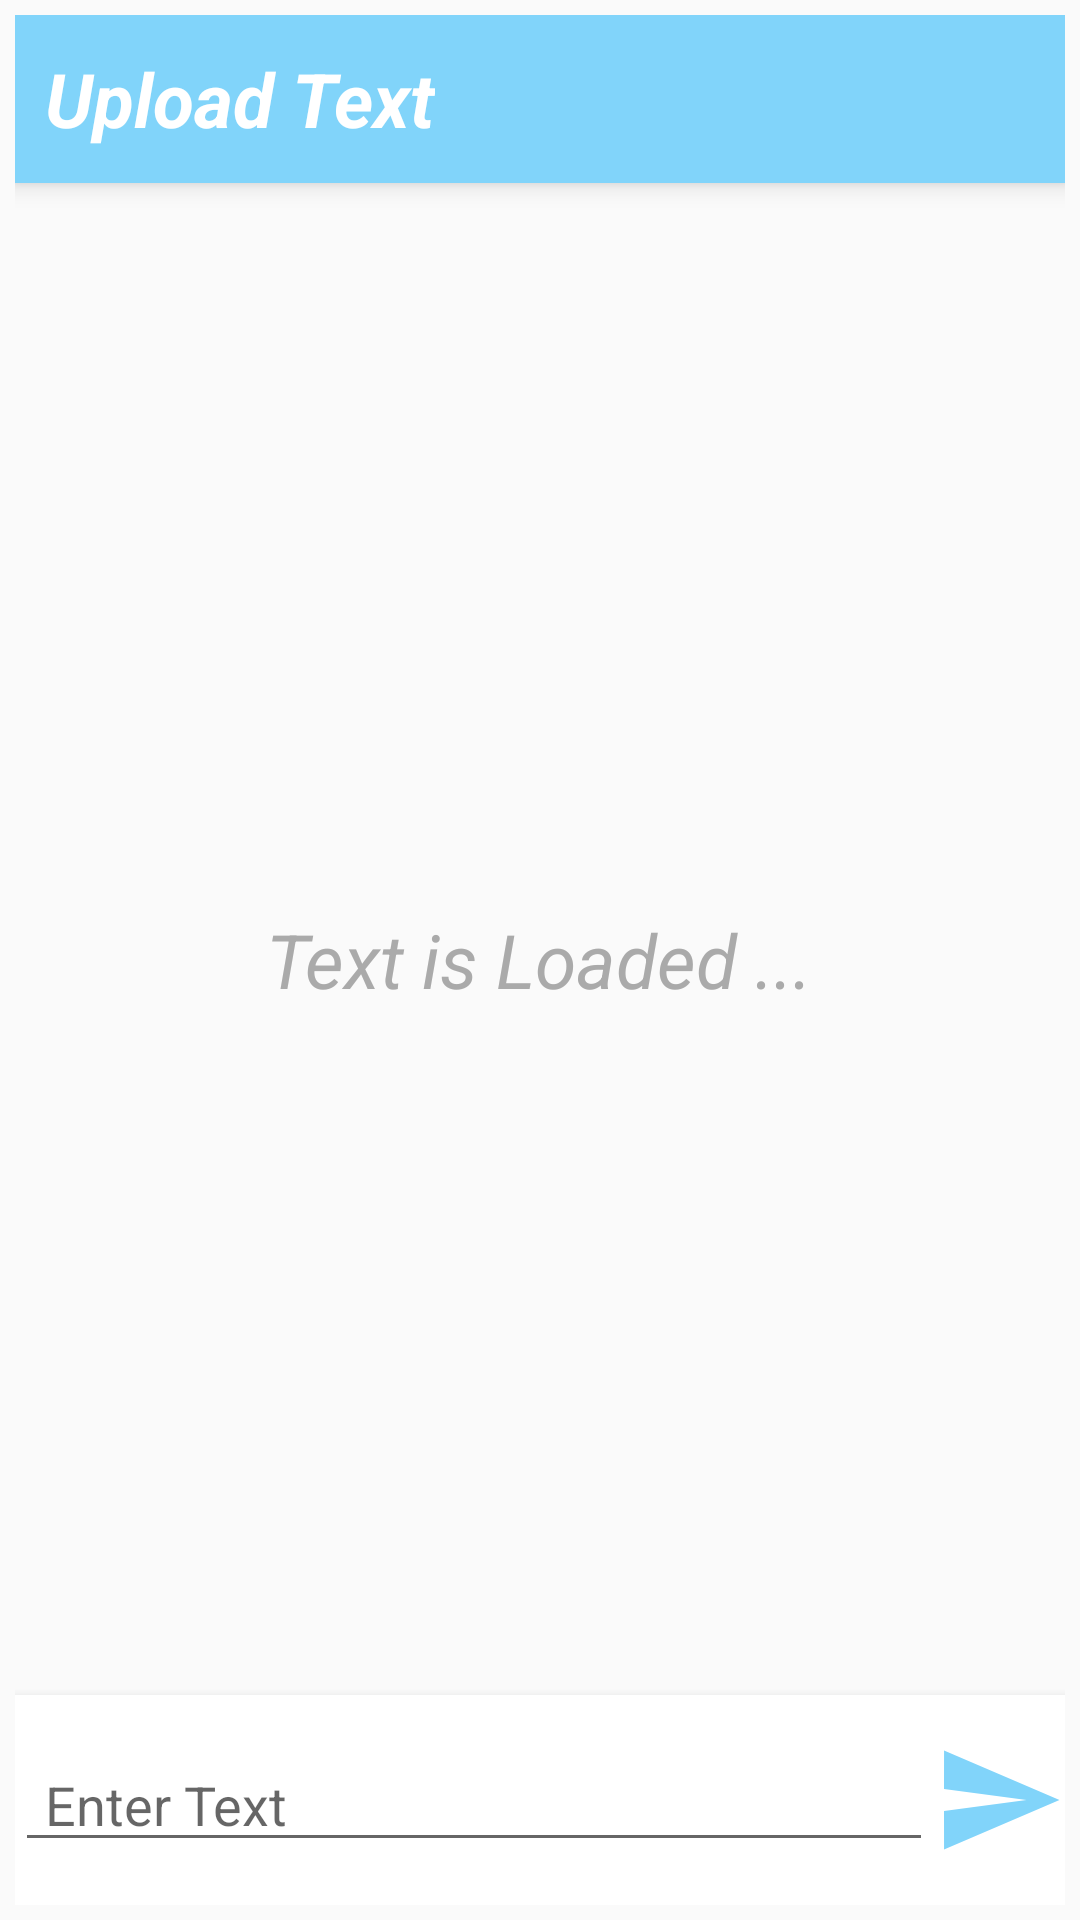

Screen size 1080px x 1920px. Icon name, then its box in pixels as region(x1, y1, x2, y2):
send: region(944, 1750, 1059, 1850)
